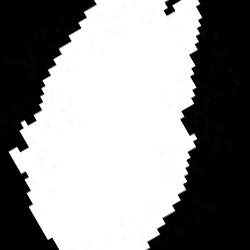spot: (9, 3, 202, 246)
